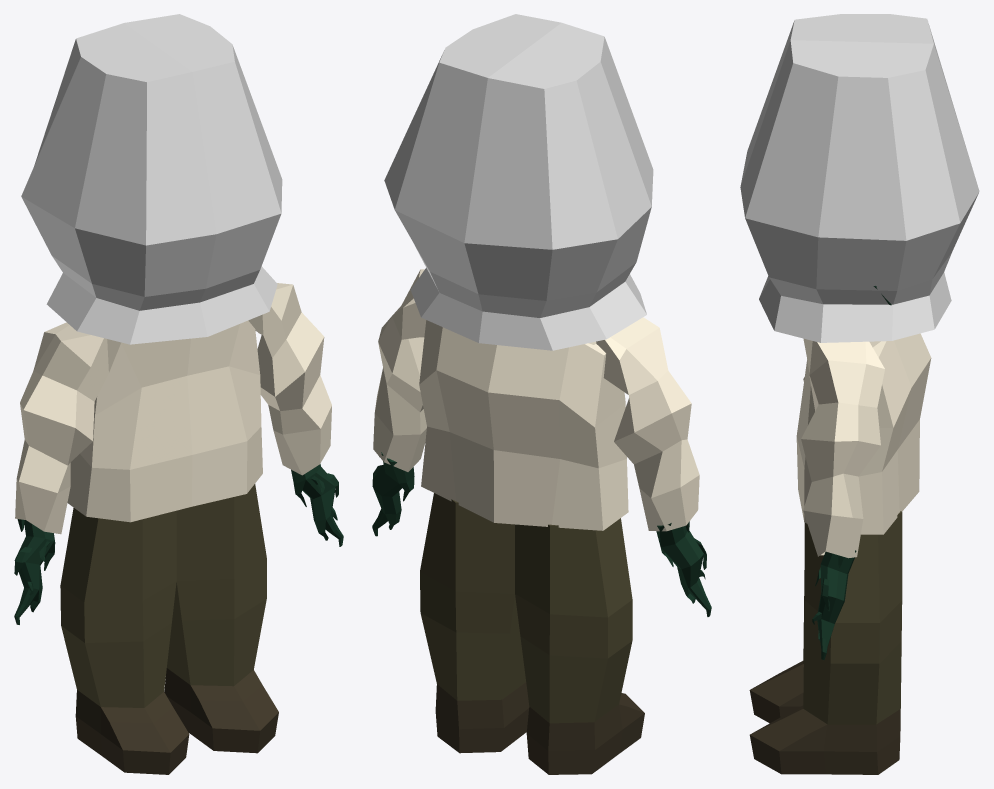
Rendered from vase guy.fbx.
3 views of the same model, side by side, from view 1: azimuth 30°, elevation 25°; view 2: azimuth 150°, elevation 25°; view 3: azimuth 270°, elevation 25° (orthographic). The views are drawn at different scales.
Parts seen in each view (by area): view 1: vase, leg, torso, arm, hand; view 2: vase, leg, torso, arm, hand; view 3: vase, leg, arm, torso, hand.
Part boxes in pixels (x1=…): vase: x1=21, y1=14, x2=282, y2=344; leg: x1=60, y1=484, x2=278, y2=774; torso: x1=67, y1=320, x2=262, y2=522; arm: x1=15, y1=283, x2=331, y2=534; hand: x1=14, y1=464, x2=343, y2=624; vase: x1=384, y1=14, x2=653, y2=350; leg: x1=420, y1=493, x2=644, y2=774; torso: x1=419, y1=320, x2=628, y2=530; arm: x1=373, y1=269, x2=699, y2=531; hand: x1=372, y1=452, x2=711, y2=616; vase: x1=740, y1=14, x2=979, y2=342; leg: x1=749, y1=511, x2=902, y2=774; arm: x1=801, y1=341, x2=884, y2=558; torso: x1=796, y1=333, x2=931, y2=534; hand: x1=812, y1=550, x2=856, y2=659.
Size of the model in its own units: 104 by 205 by 63.76.
